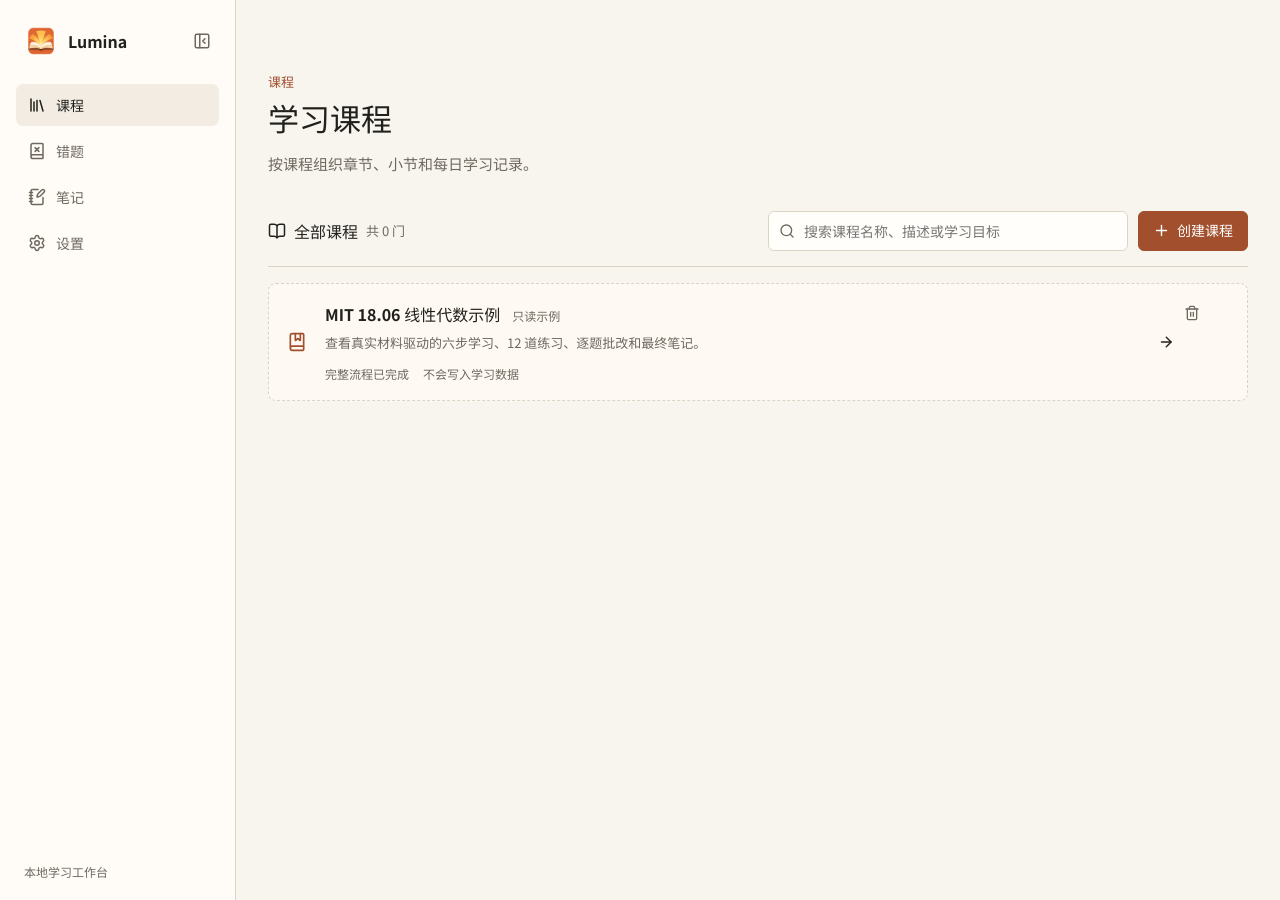
it: App › hides the bundled example only after two confirmations
Check: the heading "MIT 18.06 线性代数示例" is shown, box [325,302,500,326]
Click the button named "删除示例课程" at [1192, 313], box [1175,296,1209,330]
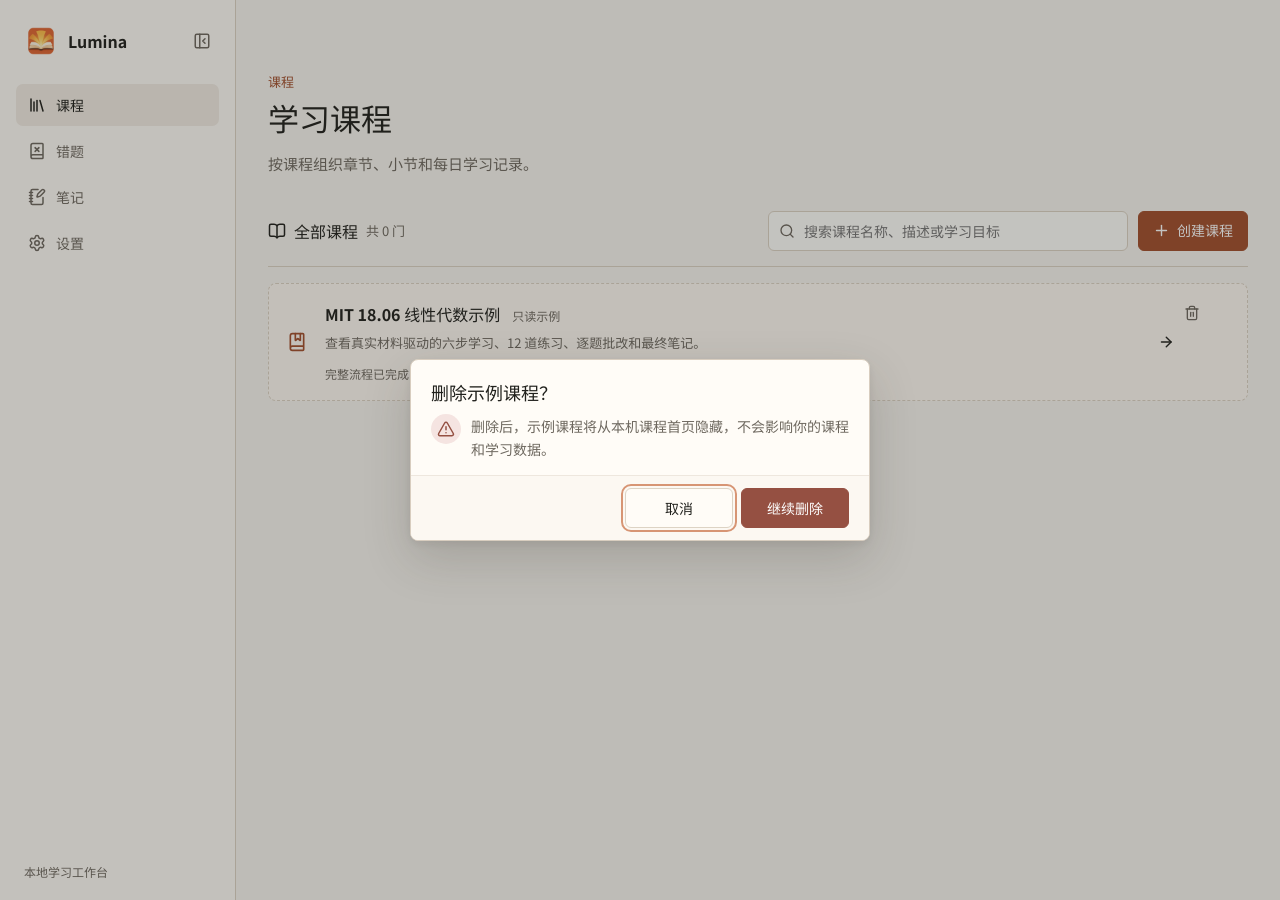
Check: the dialog "删除示例课程？" is shown, box [410,359,870,541]
Click the button "继续删除" at [795, 508], box [741,488,849,528]
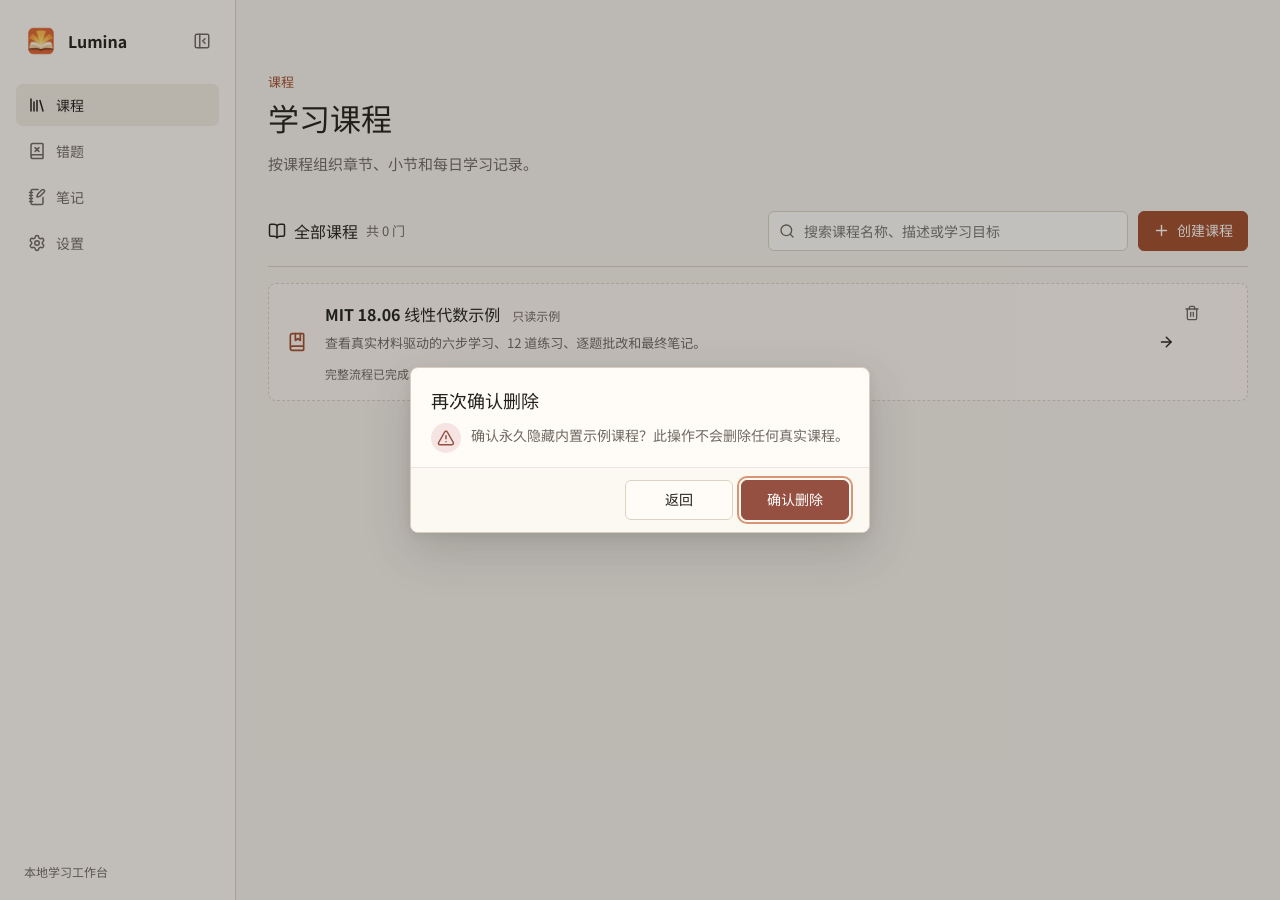
Check: the dialog "再次确认删除" is shown, box [410,367,870,533]
Click the button "确认删除" at [795, 500], box [741,480,849,520]
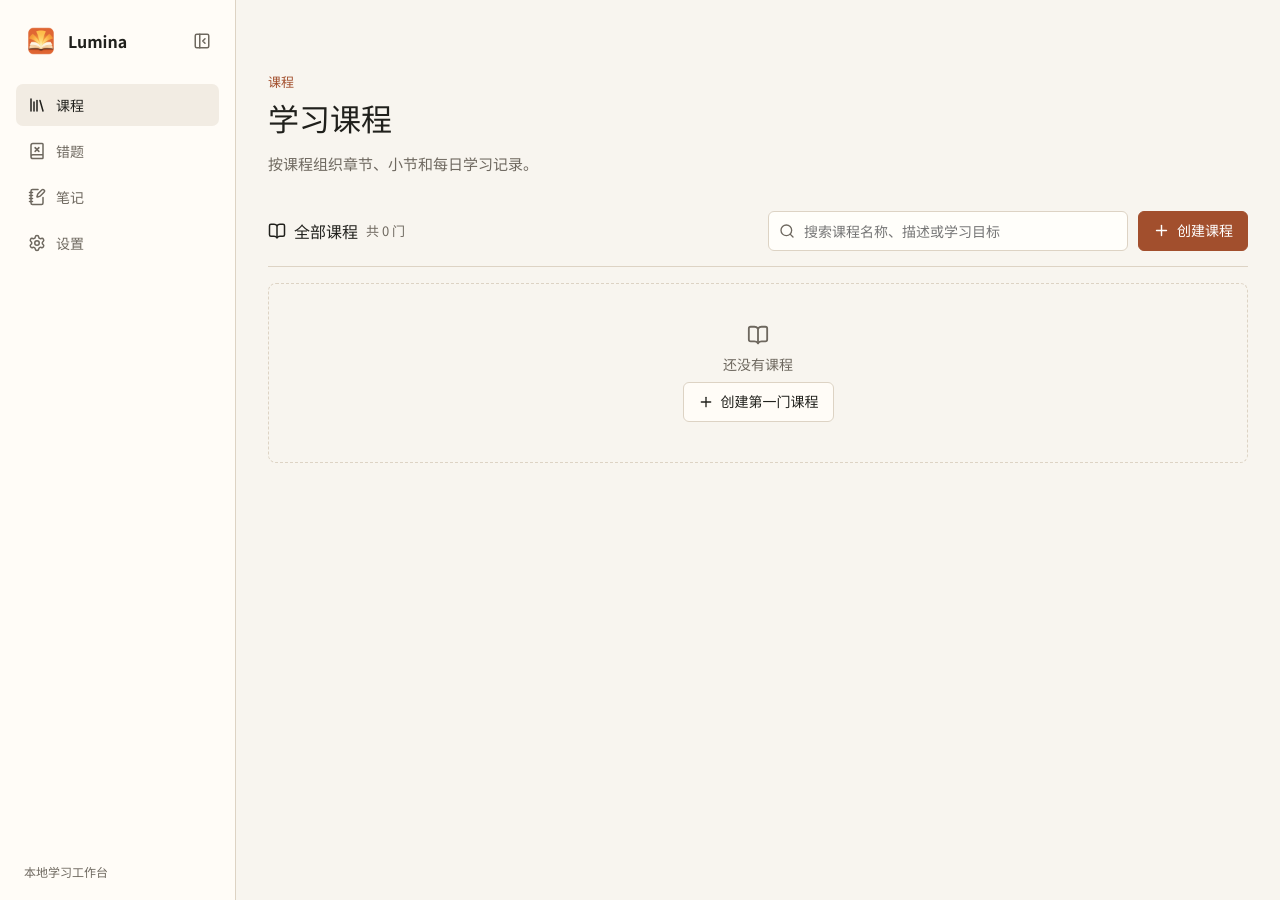
Check: the link "MIT 18.06 线性代数示例" is gone
Check: the text "还没有课程" is shown, box [723,354,793,374]
